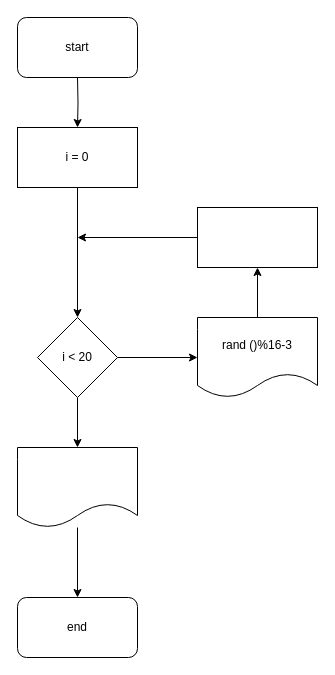
Some shapes in this 335 by 675 pixel diagram are drawn without their labels. The shapes that lost their labels are listed below. From the top down, each one's box as (x1, y1, x2, y2) in pixels, then its label:
(196, 206, 318, 268): i++
(16, 446, 138, 528): "\n"
